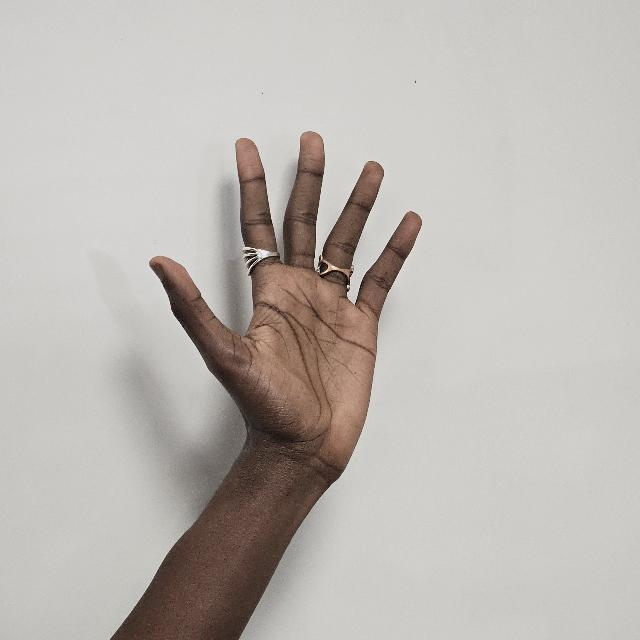X: (146, 131, 420, 475)
